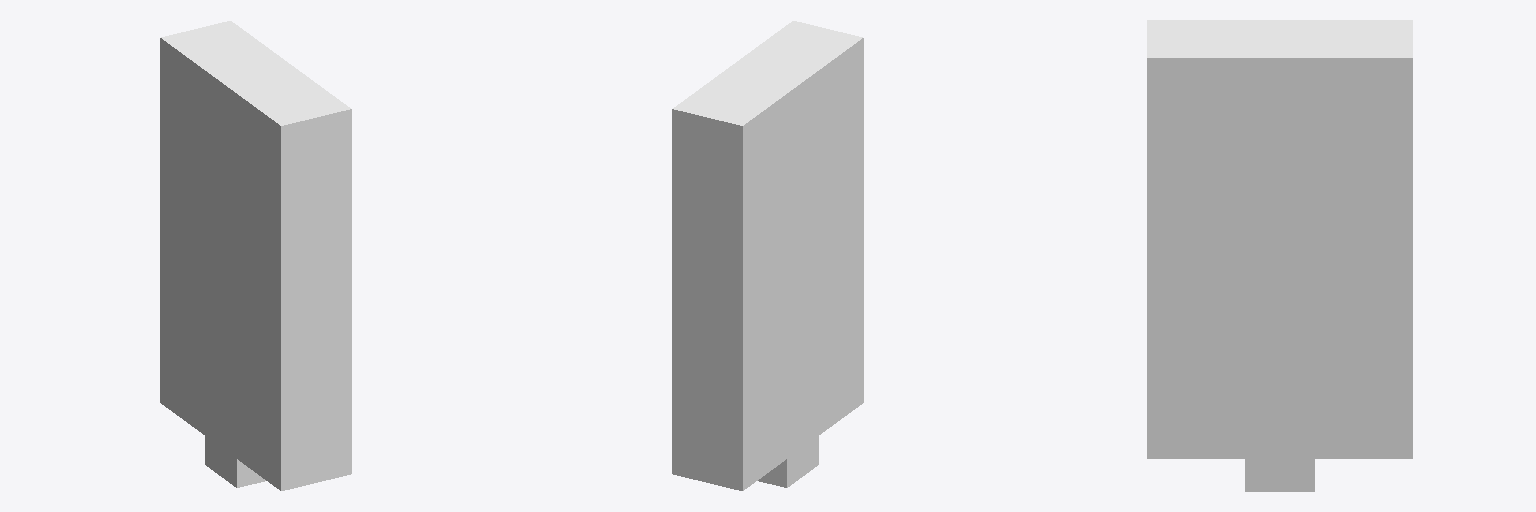
URDF robot description (tweezer):
<?xml version="1.0" ?>
<robot name="tweezer">
  <link name="base_link">
    <inertial>
      <mass value="0.01"/>
      <origin rpy="0 0 0" xyz="0 0 0"/>
      <inertia ixx="1e-5" ixy="0" ixz="0" iyy="1e-5" iyz="0" izz="1e-5"/>
    </inertial>

    <visual>
      <origin rpy="0 0 0" xyz="0 0 0"/>
      <geometry>
        <mesh filename="package://tweezer/meshes/visual/tweezer_baselink.stl"/>
      </geometry>
      <material name="white">
        <color rgba="1 1 1 1"/>
      </material>
    </visual>

    <collision>
      <origin rpy="0 0 0" xyz="0 0 0"/>
      <geometry>
        <mesh filename="package://tweezer/meshes/collision/tweezer_baselink.stl"/>
      </geometry>
    </collision>
    <contact>
    	<friction_anchor/>
    	<lateral_friction value="1.0"/>
    </contact>

  </link>


  <link name="phalanx1">

    <inertial>
      <mass value="0.01"/>
      <origin rpy="0 0 0" xyz="0 0 0"/>
      <inertia ixx="1e-5" ixy="0" ixz="0" iyy="1e-5" iyz="0" izz="1e-5"/>
    </inertial>
    <contact>
    	<friction_anchor/>
    	<lateral_friction value="1.0"/>
    </contact>
    <visual>
      <origin rpy="0 0 0" xyz="0.04 0 0"/>
      <geometry>
        <mesh filename="package://tweezer/meshes/visual/tweezer_patita.stl"/>
      </geometry>
      <material name="white">
        <color rgba="1 1 1 1"/>
      </material>
    </visual>

    <collision>
      <origin rpy="0 0 0" xyz="0.04 0 0"/>
      <geometry>
        <mesh filename="package://tweezer/meshes/collision/tweezer_patita.stl"/>
      </geometry>
    </collision>

  </link>


  <link name="phalanx2">
      <inertial>
      <mass value="0.01"/>
      <origin rpy="0 0 0" xyz="0 0 0"/>
      <inertia ixx="1e-5" ixy="0" ixz="0" iyy="1e-5" iyz="0" izz="1e-5"/>
    </inertial>

    <visual>
      <origin rpy="0 0 0" xyz="-0.04 0 0"/>
      <geometry>
        <mesh filename="package://tweezer/meshes/visual/tweezer_patita.stl"/>
      </geometry>
      <material name="white">
        <color rgba="1 1 1 1"/>
      </material>
    </visual>

    <collision>
      <origin rpy="0 0 0" xyz="-0.04 0 0"/>
      <geometry>
        <mesh filename="package://tweezer/meshes/collision/tweezer_patita.stl"/>
      </geometry>
    </collision>
    <contact>
    	<friction_anchor/>
    	<lateral_friction value="1.0"/>
    </contact>
  </link>

  <joint name="joint1" type="prismatic">
    <parent link="base_link"/>
    <child link="phalanx1"/>
    <origin xyz="0 0 0"/>
    <axis xyz="1 0 0"/>
    <limit lower="-0.03" upper="0" effort="10" velocity="10"/>
  </joint>

  <joint name="joint2" type="prismatic">
    <parent link="base_link"/>
    <child link="phalanx2"/>
    <origin xyz="0 0 0"/>
    <axis xyz="1 0 0"/>
    <limit lower="0" upper="0.03" effort="10" velocity="10"/>
  </joint>

</robot>

--- Render facts (derived) ---
The picture shows the robot from 3 angles, left to right: view 1: azimuth 30°, elevation 25°; view 2: azimuth 150°, elevation 25°; view 3: azimuth 270°, elevation 25°; orthographic projection.
Robot: tweezer — 3 links, 2 joints (2 prismatic); root link base_link; default pose: all joints at 0.
Links seen in each view (by area): view 1: phalanx2, phalanx1; view 2: phalanx2, phalanx1; view 3: phalanx1, phalanx2.
Link boxes in pixels (box(x1,y1,x2,y2)): phalanx2: box(160, 21, 350, 490); phalanx1: box(171, 21, 351, 490); phalanx2: box(673, 21, 863, 490); phalanx1: box(672, 21, 792, 490); phalanx1: box(1147, 30, 1412, 491); phalanx2: box(1147, 20, 1412, 54).
Size in the robot's own frame: 10.08 by 30 by 54 metres.
3 mesh visuals loaded from 2 distinct referenced files (2 binary STL).
